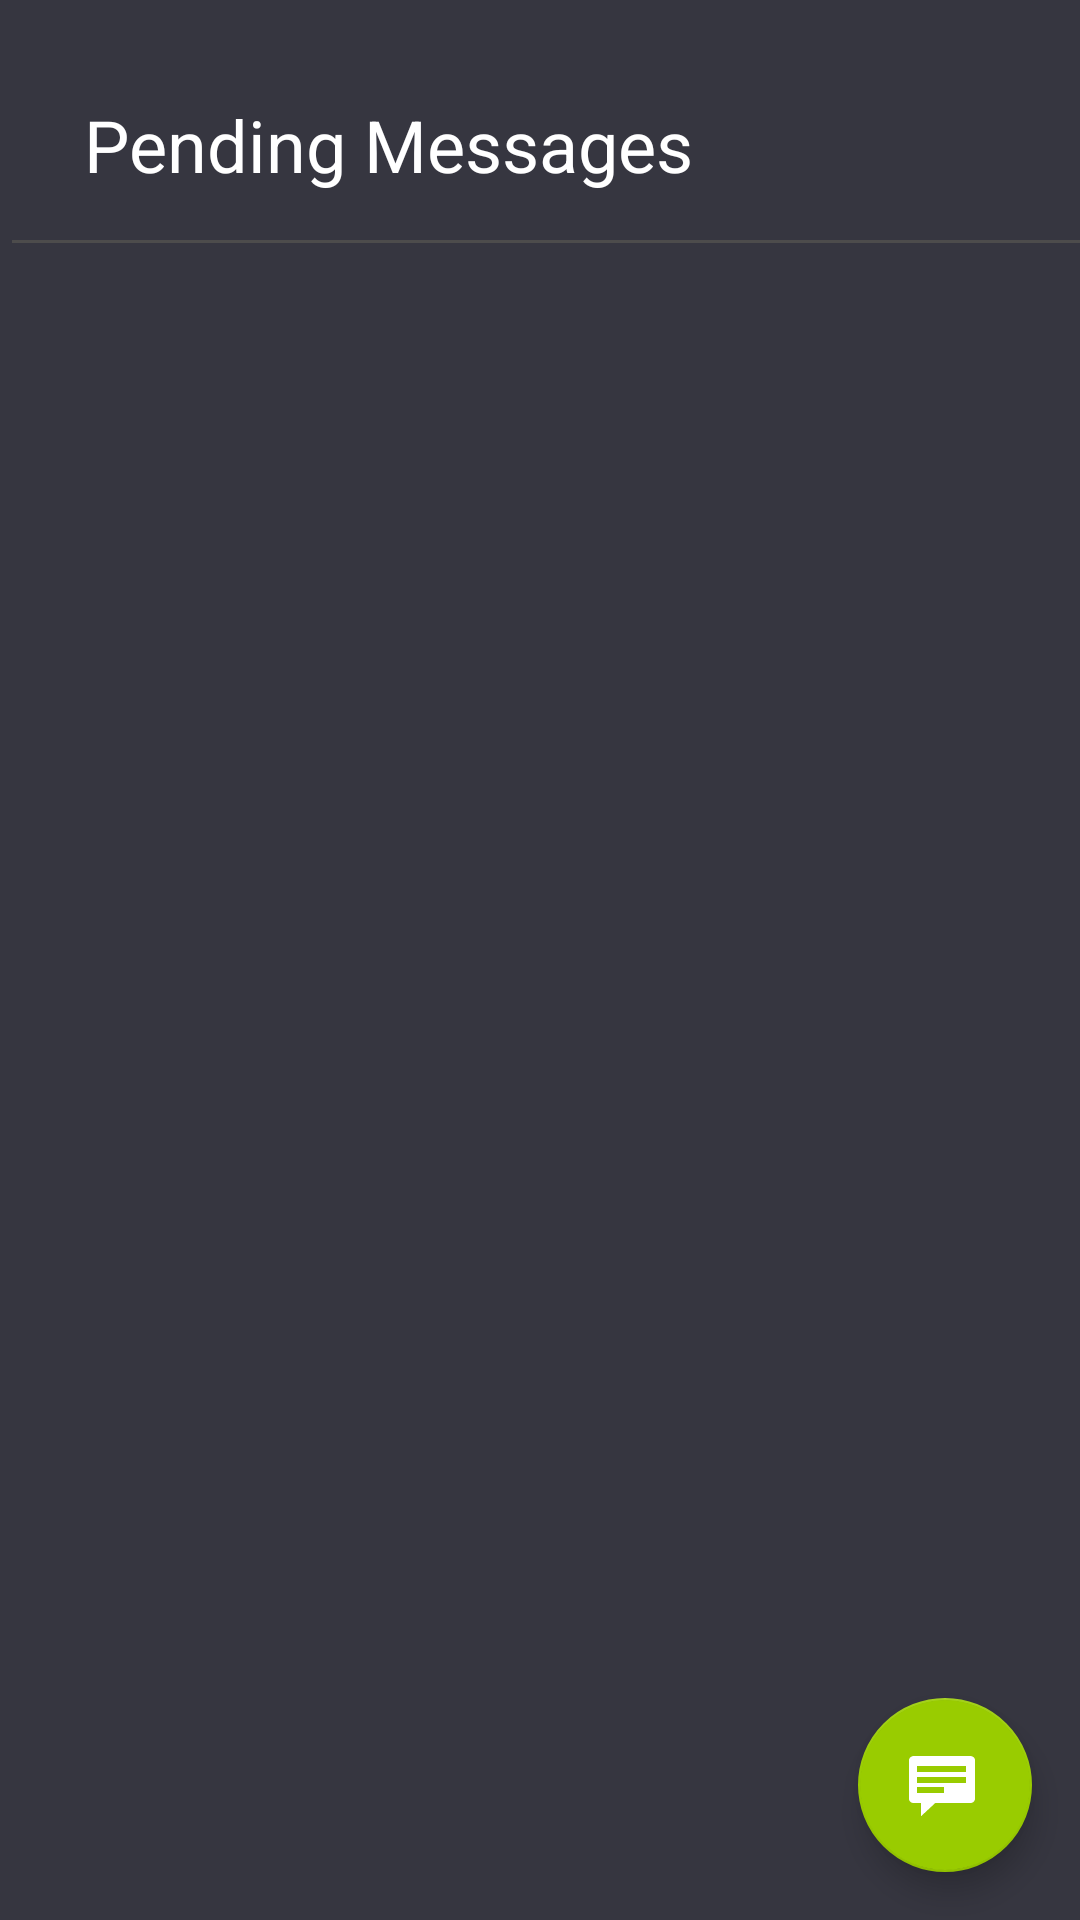

Where icons sit on this 1080*1920 app screen, as (x1, y1, x2, y2):
chat: (858, 1698, 1032, 1872)
